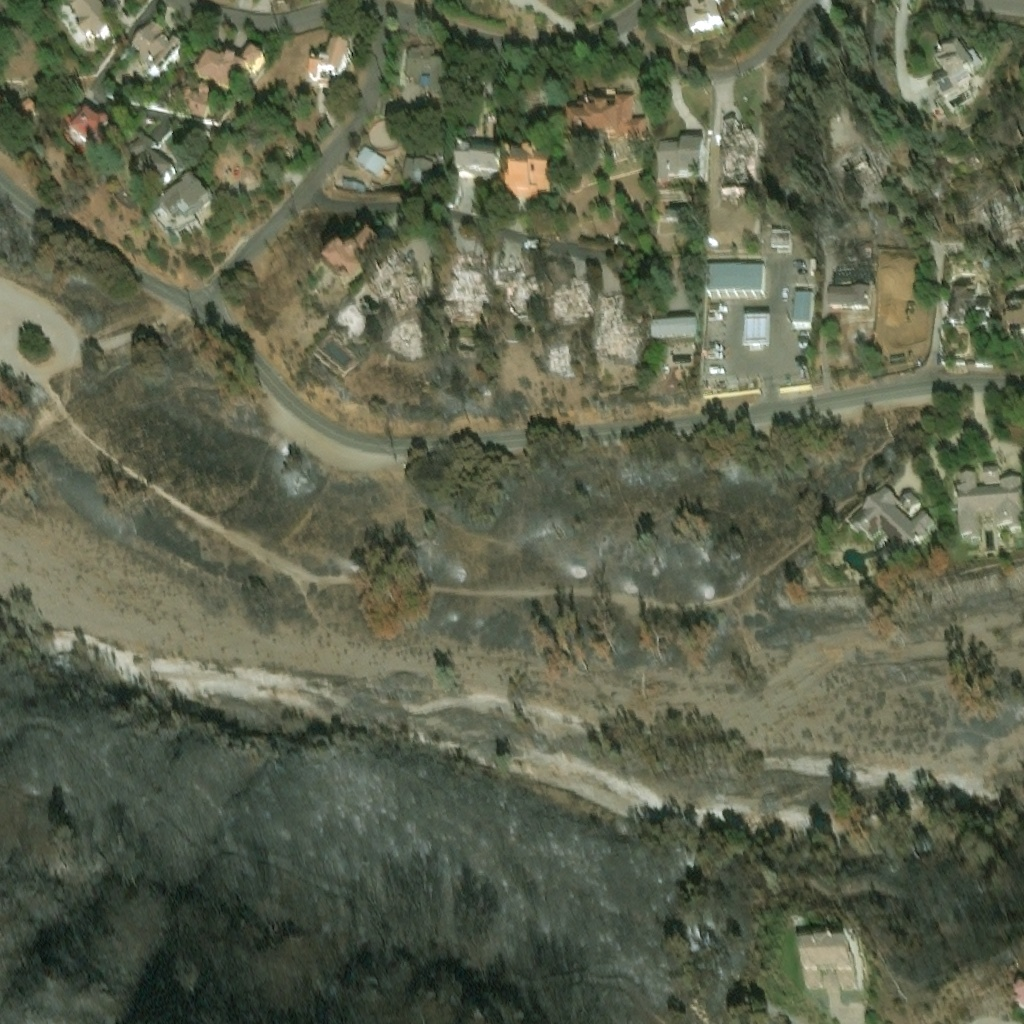0 no-damage: (848, 488, 936, 570), (957, 475, 1023, 548), (566, 96, 647, 141), (153, 177, 214, 236), (323, 232, 385, 287), (127, 134, 181, 196), (128, 20, 187, 76), (195, 46, 265, 93), (931, 34, 982, 89), (800, 938, 855, 988), (68, 108, 123, 155), (504, 146, 551, 197), (67, 0, 122, 42), (404, 41, 448, 90), (655, 135, 703, 178), (306, 36, 349, 83), (947, 281, 991, 322), (704, 261, 763, 289), (0, 93, 40, 134), (173, 84, 216, 122), (454, 143, 500, 177), (684, 0, 724, 35), (401, 139, 436, 177), (650, 319, 697, 342), (353, 141, 386, 172), (827, 283, 868, 307), (742, 312, 769, 343), (792, 288, 812, 323), (1001, 300, 1023, 328), (900, 495, 924, 518), (1009, 974, 1023, 1001), (125, 0, 151, 13), (771, 229, 790, 246), (984, 468, 1001, 486), (342, 175, 364, 186), (664, 205, 691, 213)
3 destroyed: (595, 291, 644, 361), (441, 254, 489, 317), (370, 253, 419, 312), (493, 262, 541, 315), (719, 122, 754, 192), (838, 144, 875, 182), (978, 199, 1010, 230), (550, 284, 585, 310), (348, 328, 368, 342), (550, 350, 567, 365)
4 un-classified: (1006, 225, 1023, 251), (569, 34, 597, 49)
